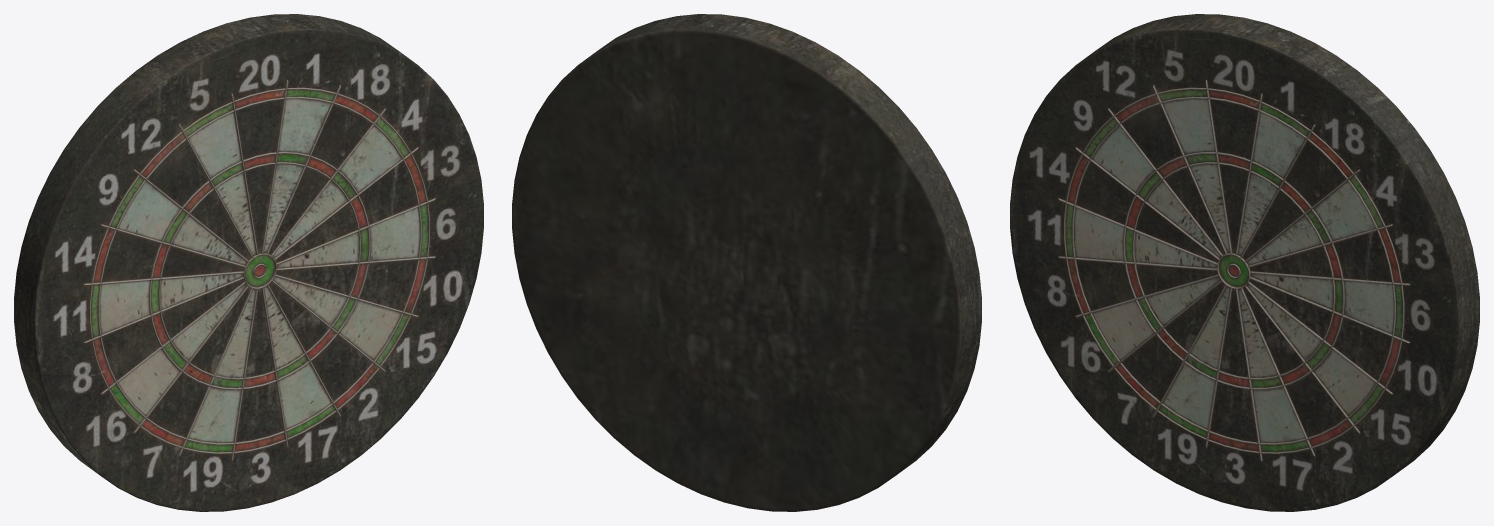
Rendered from dartboard.glb.
3 views of the same model, side by side, from view 1: azimuth 30°, elevation 25°; view 2: azimuth 150°, elevation 25°; view 3: azimuth 330°, elevation 25° (orthographic).
Parts seen in each view (by area): view 1: dartboard; view 2: dartboard; view 3: dartboard.
Part boxes in pixels (x1,y1,x2,y2): dartboard: [14, 14, 483, 511]; dartboard: [512, 14, 981, 511]; dartboard: [1010, 14, 1479, 511].
Bounding box in the file's own units: 0.4507 × 0.4507 × 0.0398.
Materials: 1 (1 with a texture image).
